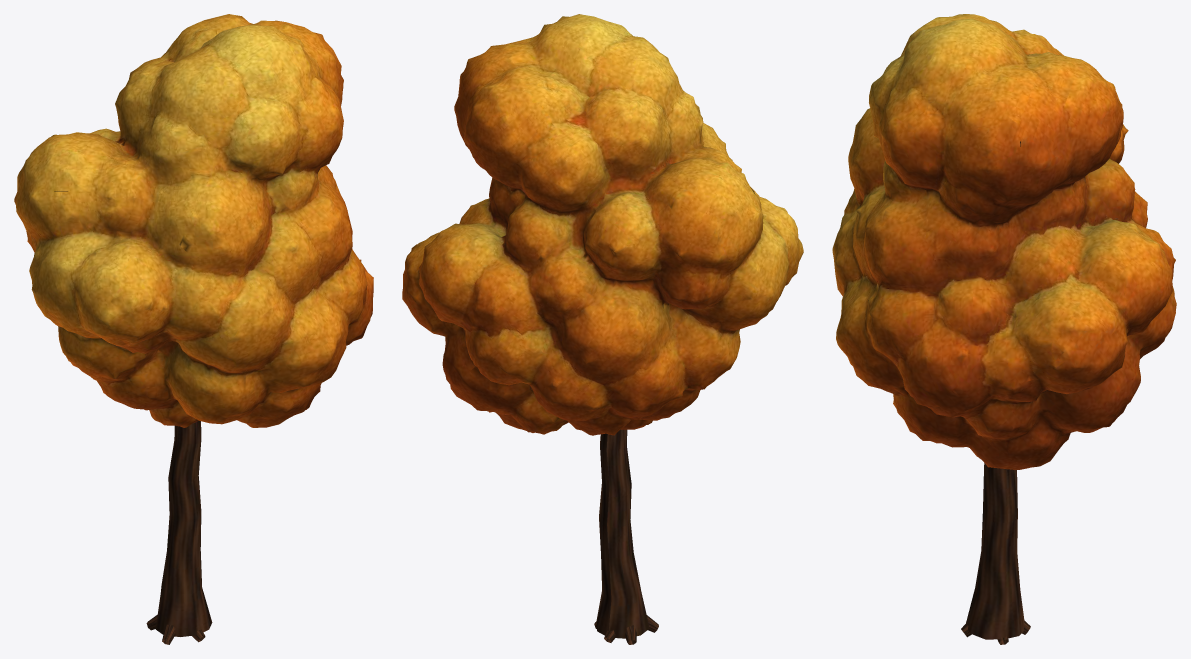
Rendered from tree_maple_orange.glb.
3 views of the same model, side by side, from view 1: azimuth 30°, elevation 25°; view 2: azimuth 150°, elevation 25°; view 3: azimuth 270°, elevation 25° (orthographic). The views are drawn at different scales.
Visible parts, largest first — view 1: tree_maple_orange_crown0, trunk; view 2: tree_maple_orange_crown0, trunk; view 3: tree_maple_orange_crown0, trunk.
Part boxes in pixels (x1,y1,x2,y2): tree_maple_orange_crown0: (14, 14, 373, 427); trunk: (146, 420, 212, 644); tree_maple_orange_crown0: (402, 14, 803, 435); trunk: (594, 429, 658, 644); tree_maple_orange_crown0: (832, 14, 1176, 469); trunk: (961, 463, 1030, 644).
Bounding box in the file's own units: 2.37 × 4.04 × 1.98.
2 materials, 2 textured.
